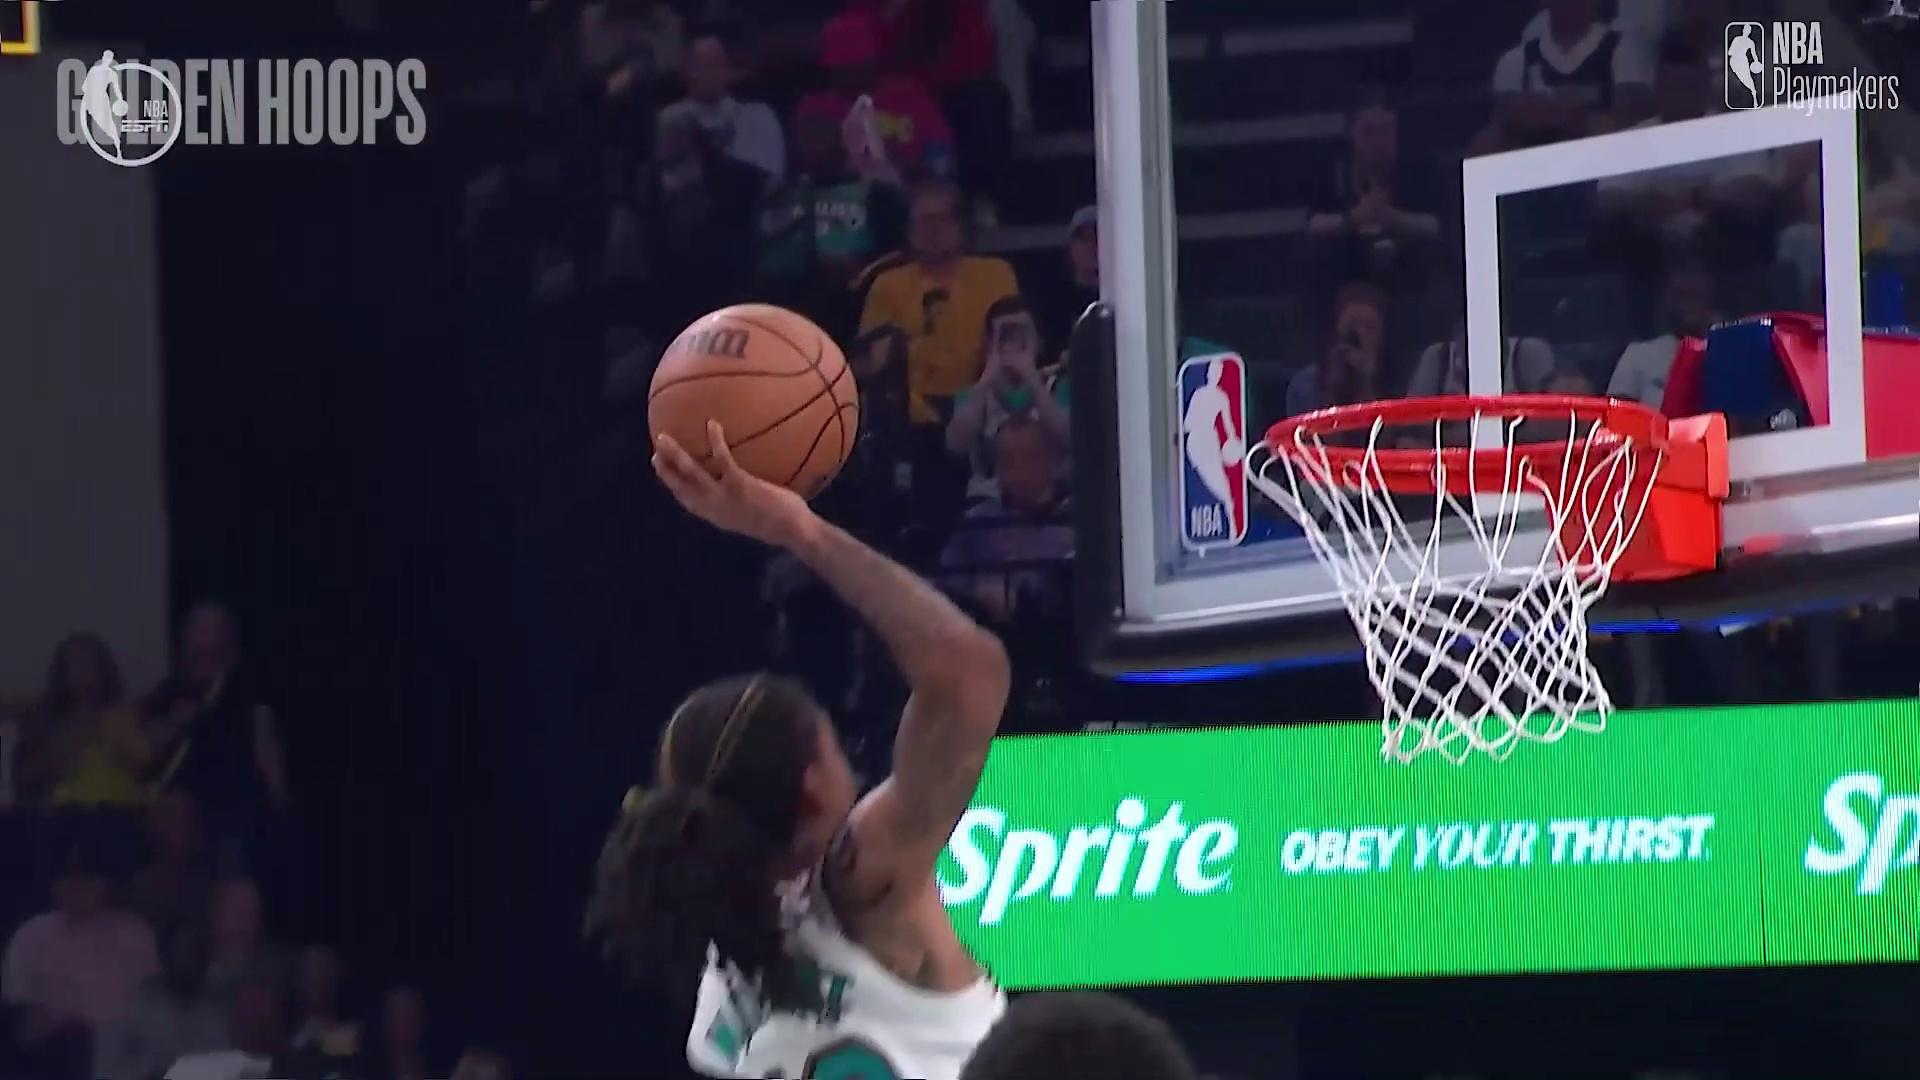ball: (634, 309, 868, 495)
hoop: (1254, 388, 1691, 760)
